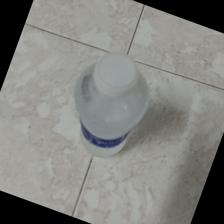Aquafina: (64, 53, 151, 163)
